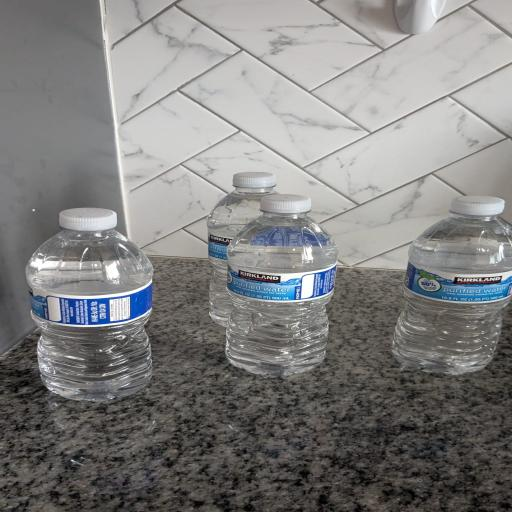waterbottle: (27, 208, 152, 400), (393, 197, 511, 374), (226, 195, 337, 375), (208, 172, 275, 326)
